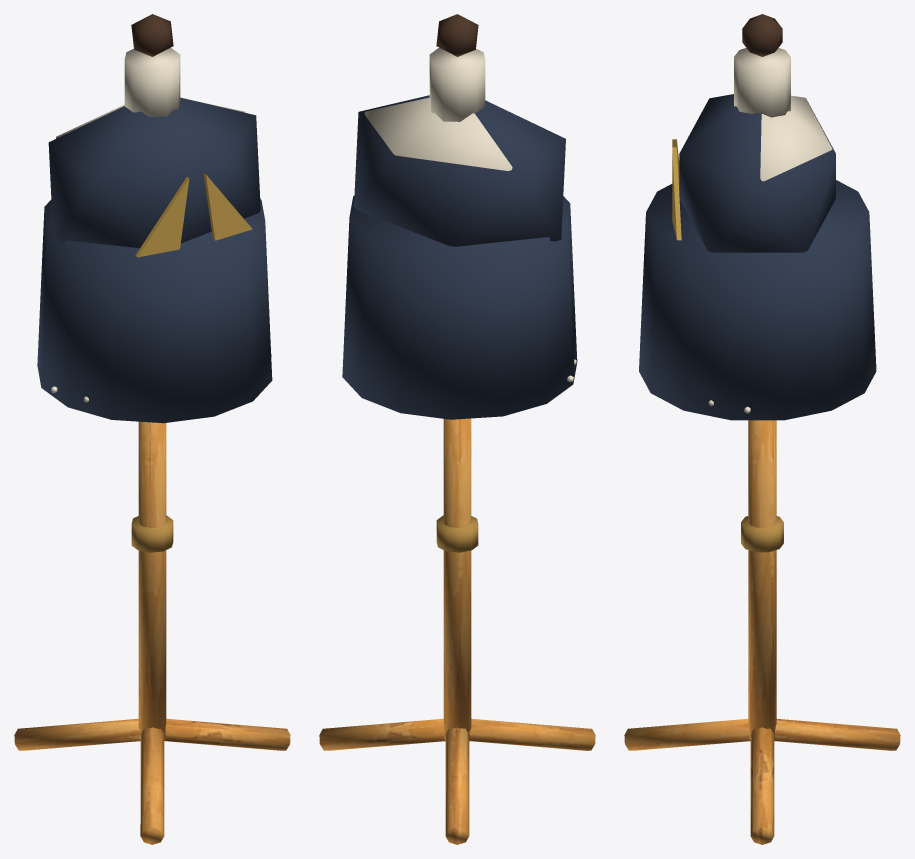
3 views of the same model, side by side, from view 1: azimuth 30°, elevation 25°; view 2: azimuth 150°, elevation 25°; view 3: azimuth 270°, elevation 25° (orthographic).
Parts seen in each view (by area): view 1: shop_cloth_5, shop_oak, shop_linen, shop_cloth_2, shop_wood_dark, shop_brass; view 2: shop_cloth_5, shop_oak, shop_linen, shop_wood_dark, shop_brass; view 3: shop_cloth_5, shop_oak, shop_linen, shop_wood_dark, shop_brass, shop_cloth_2.
Part boxes in pixels (left/top/right/bottom): shop_cloth_5: left=37, top=97, right=272, bottom=423; shop_oak: left=14, top=421, right=290, bottom=844; shop_linen: left=56, top=48, right=245, bottom=138; shop_cloth_2: left=135, top=173, right=252, bottom=257; shop_wood_dark: left=131, top=14, right=173, bottom=56; shop_brass: left=131, top=515, right=173, bottom=552; shop_cloth_5: left=342, top=95, right=577, bottom=419; shop_oak: left=319, top=418, right=595, bottom=844; shop_linen: left=364, top=48, right=512, bottom=170; shop_wood_dark: left=436, top=14, right=478, bottom=56; shop_brass: left=436, top=515, right=478, bottom=552; shop_cloth_5: left=639, top=94, right=876, bottom=420; shop_oak: left=624, top=420, right=900, bottom=844; shop_linen: left=734, top=48, right=832, bottom=181; shop_wood_dark: left=742, top=14, right=782, bottom=56; shop_brass: left=741, top=516, right=783, bottom=552; shop_cloth_2: left=672, top=139, right=681, bottom=240.
Size of the model in its own units: 0.5914 by 1.78 by 0.581.
7 materials, 1 textured.
